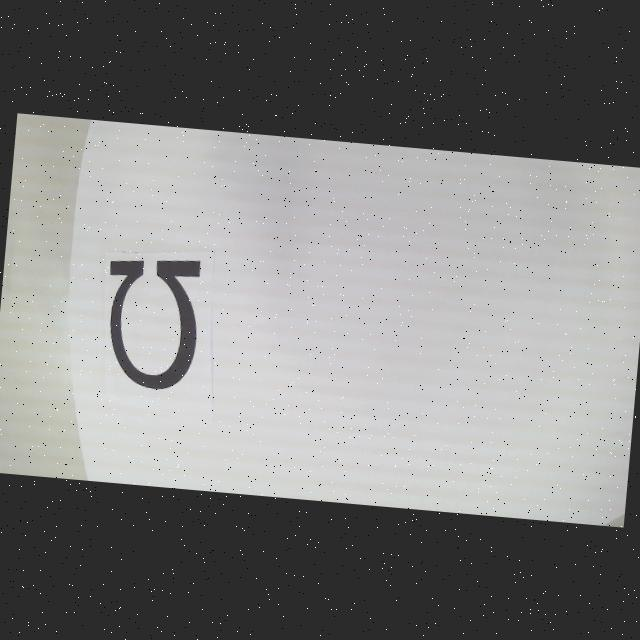OMEGA: (100, 252, 204, 392)
